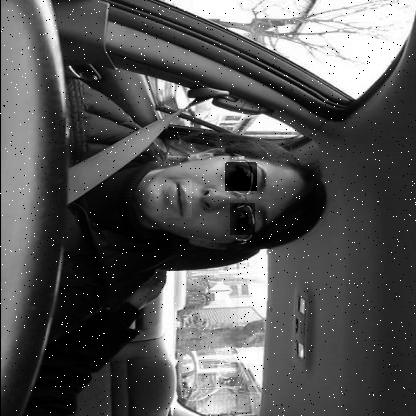seatbelt: (68, 110, 332, 264)
